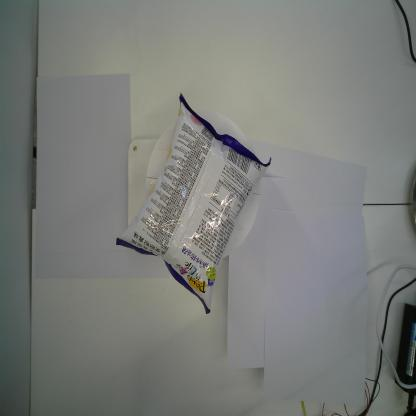Puffed Food: (114, 91, 272, 315)
